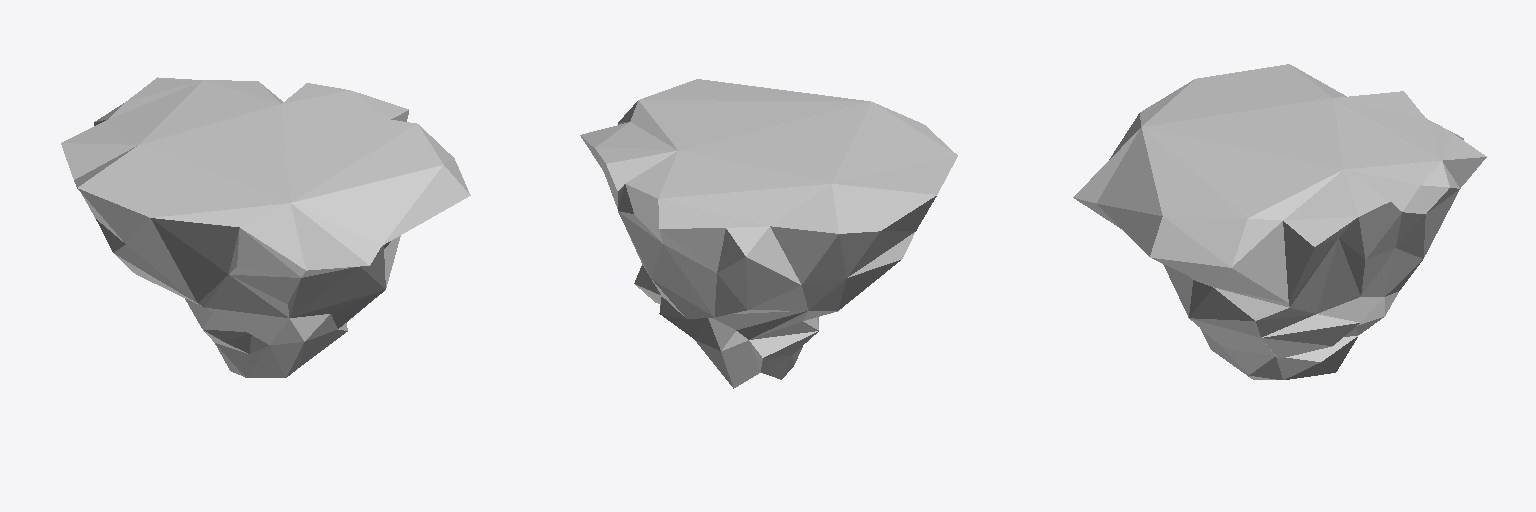
The model's file is IslandSmall1.obj.
The picture shows the model from 3 angles: view 1: azimuth 30°, elevation 25°; view 2: azimuth 150°, elevation 25°; view 3: azimuth 270°, elevation 25°; orthographic projection.
Parts seen in each view (by area): view 1: Small_Island_1_Low_Sphere.004; view 2: Small_Island_1_Low_Sphere.004; view 3: Small_Island_1_Low_Sphere.004.
Boxes of the visible parts, x1=… form: Small_Island_1_Low_Sphere.004: x1=61, y1=77, x2=470, y2=377; Small_Island_1_Low_Sphere.004: x1=580, y1=79, x2=957, y2=388; Small_Island_1_Low_Sphere.004: x1=1073, y1=64, x2=1486, y2=379.
Bounding box in the file's own units: 24.96 × 15.71 × 25.69.